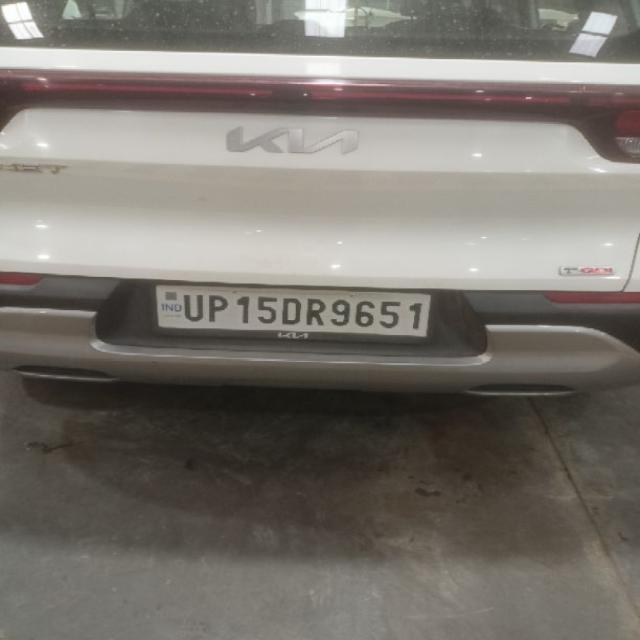license_plate: (151, 282, 433, 343)
